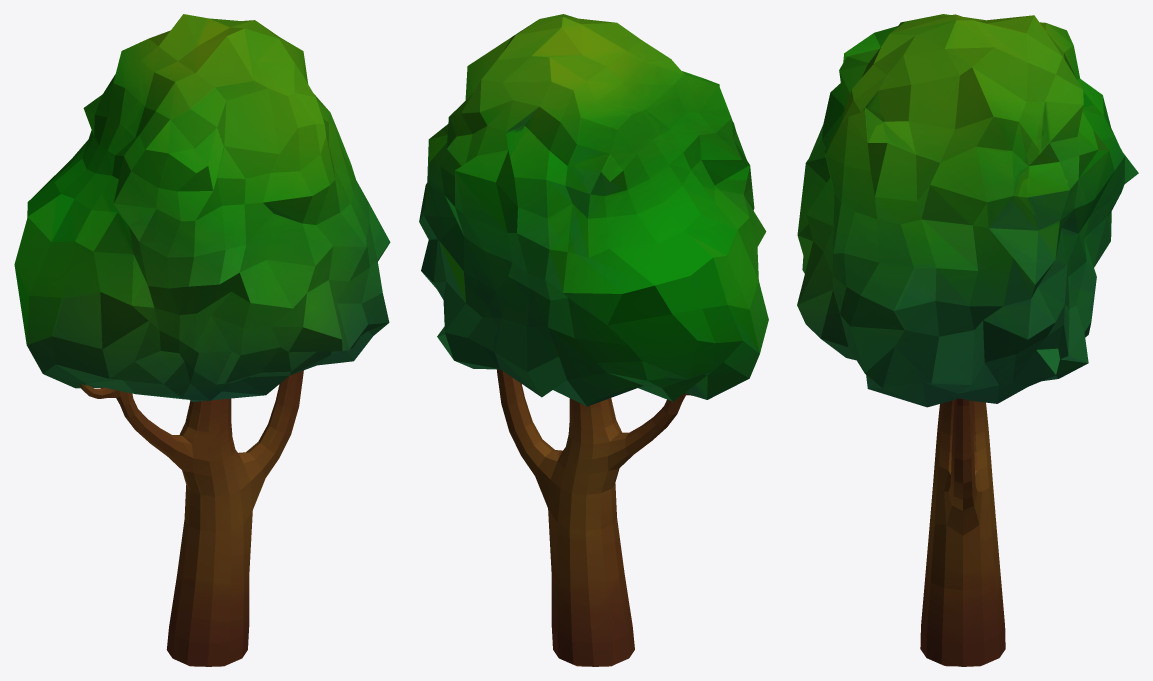
Rendered from SM_VEG_Tree01.fbx.
The picture shows the model from 3 angles, left to right: view 1: azimuth 30°, elevation 25°; view 2: azimuth 150°, elevation 25°; view 3: azimuth 270°, elevation 25°; orthographic projection. The views are drawn at different scales.
Visible parts, largest first — view 1: Tree_Canopy; view 2: Tree_Canopy; view 3: Tree_Canopy.
Boxes of the visible parts, x1=… form: Tree_Canopy: x1=14, y1=14, x2=390, y2=666; Tree_Canopy: x1=419, y1=14, x2=768, y2=666; Tree_Canopy: x1=797, y1=14, x2=1138, y2=666.
Bounding box in the file's own units: 368 × 675 × 321.
Materials: 1 (1 with a texture image).
